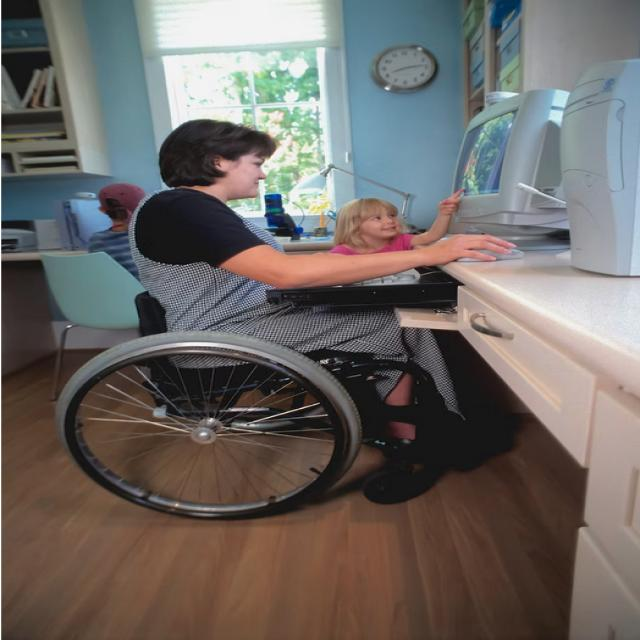wheelchairs: (60, 290, 461, 518)
